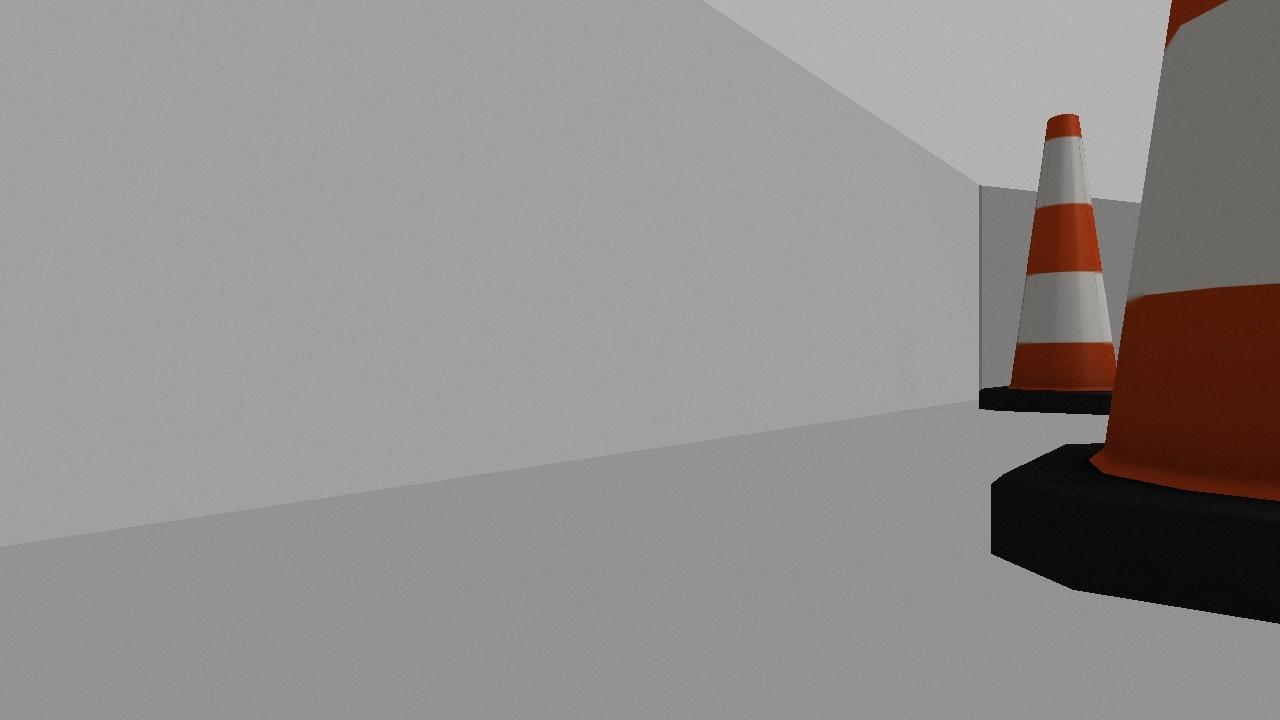cone_barrel: (976, 114, 1155, 413)
